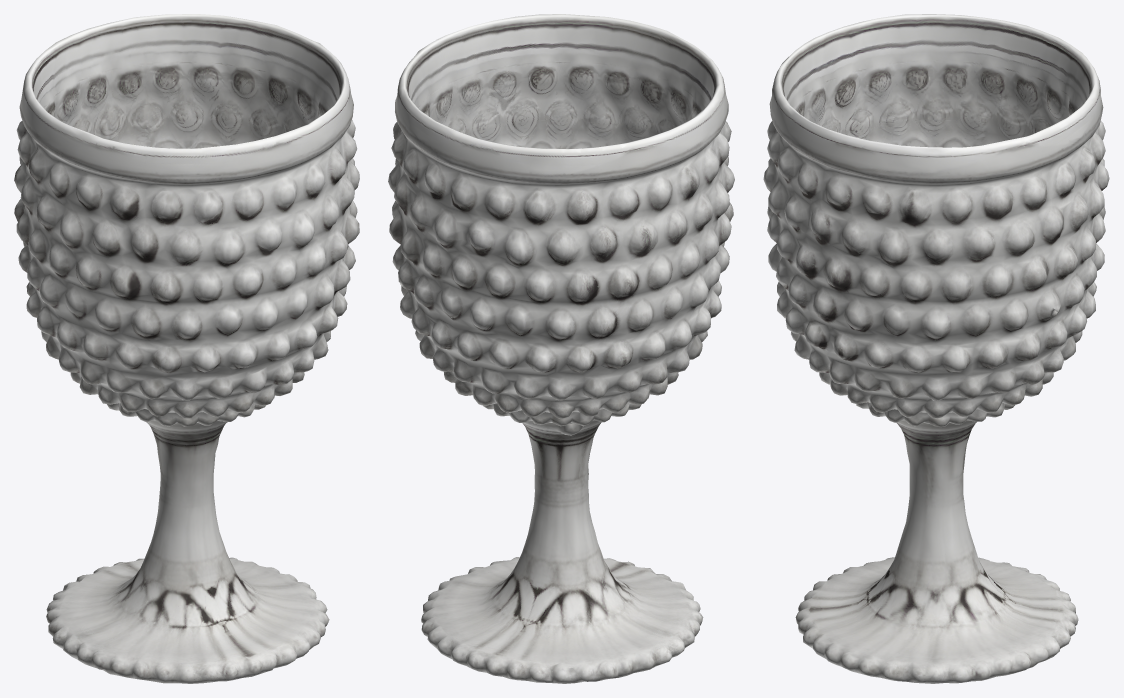
The model's file is Glass_Goblet_Clear_Bubble_10InchesTall_TableTop_0222192500_texture.glb.
The picture shows the model from 3 angles, left to right: view 1: azimuth 30°, elevation 25°; view 2: azimuth 150°, elevation 25°; view 3: azimuth 270°, elevation 25°; orthographic projection.
Visible parts, largest first — view 1: Mesh_0; view 2: Mesh_0; view 3: Mesh_0.
Part boxes in pixels (left/top/right/bottom): Mesh_0: left=14, top=14, right=359, bottom=683; Mesh_0: left=388, top=14, right=734, bottom=683; Mesh_0: left=763, top=14, right=1109, bottom=683.
Size of the model in its own units: 0.1455 by 0.254 by 0.1455.
Materials: 1 (1 with a texture image).
